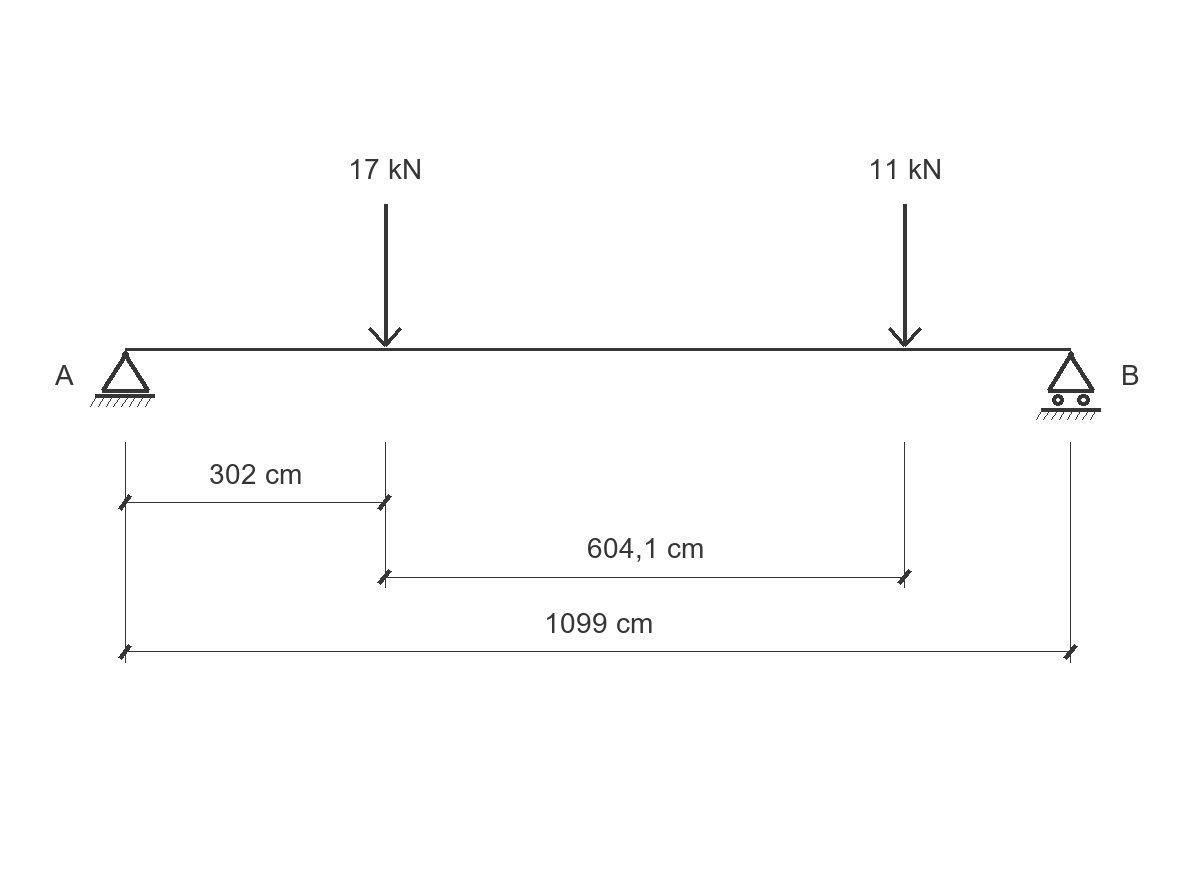pin_support: (90, 351, 155, 407)
point_load: (368, 204, 402, 347), (888, 204, 922, 347)
roller_support: (1036, 351, 1101, 420)
